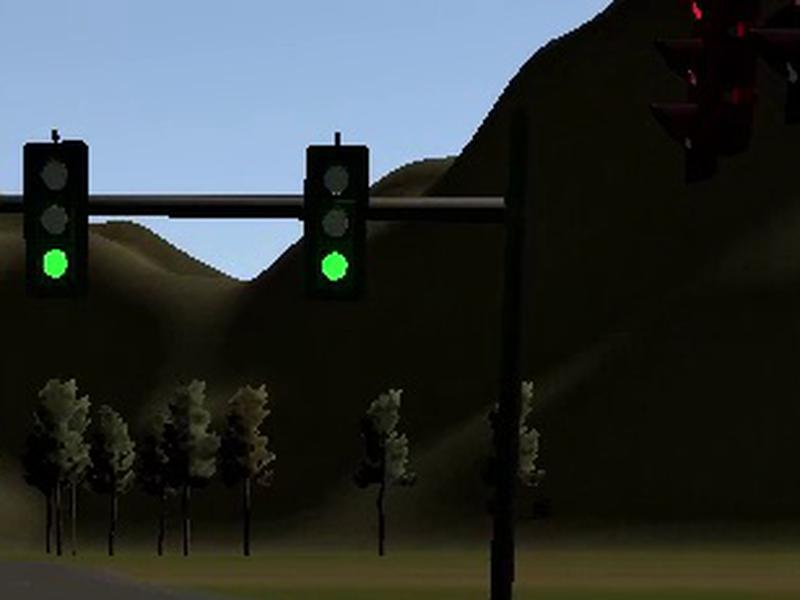Green: (22, 140, 88, 304), (303, 145, 369, 299)
